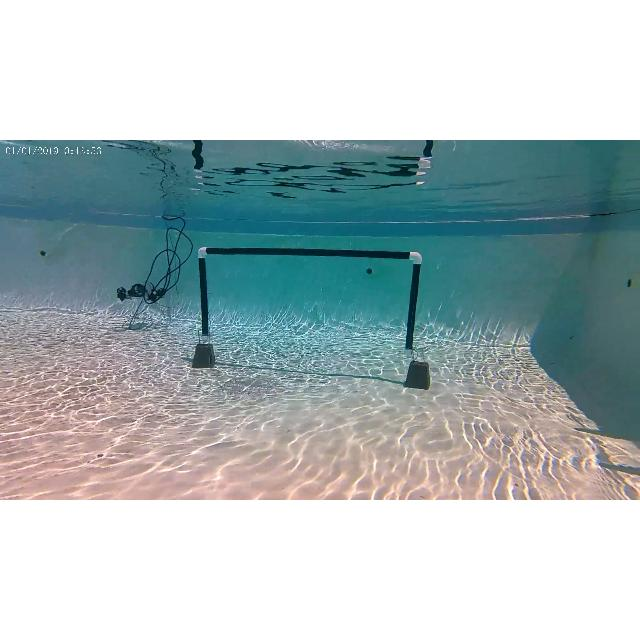prequal gate: (198, 248, 424, 354)
prequal gate leg l: (402, 248, 424, 358), (198, 244, 215, 336)
